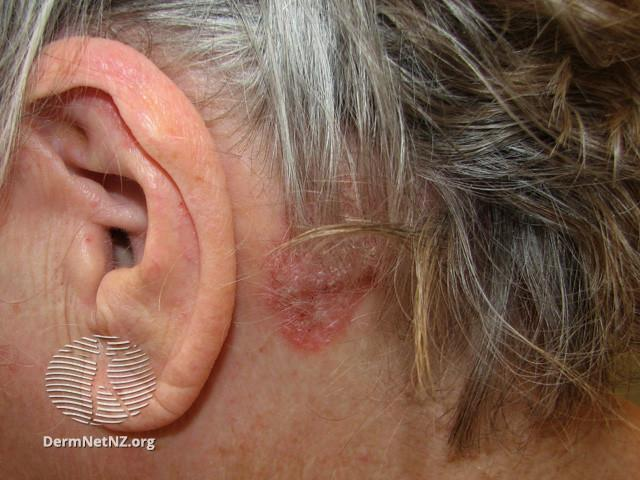Psoriasis: (246, 159, 396, 444)
